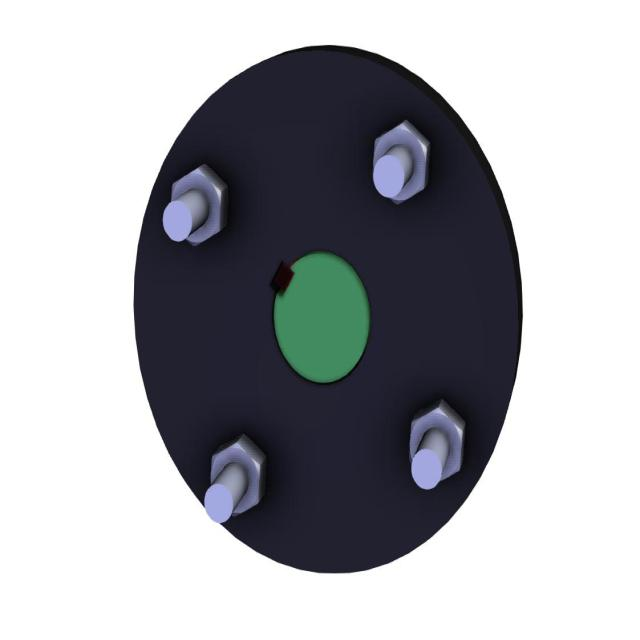bolt nut: (169, 163, 230, 252), (209, 430, 267, 521), (374, 119, 433, 207), (409, 399, 466, 487)
